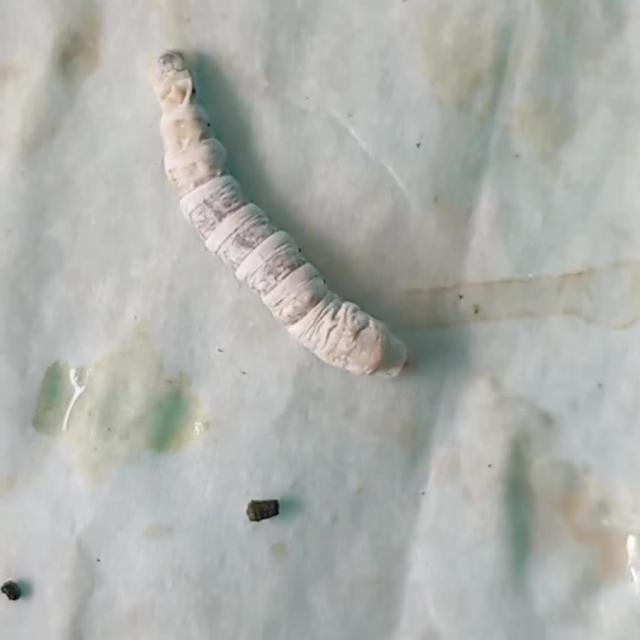Grasserie: (110, 21, 463, 407)
